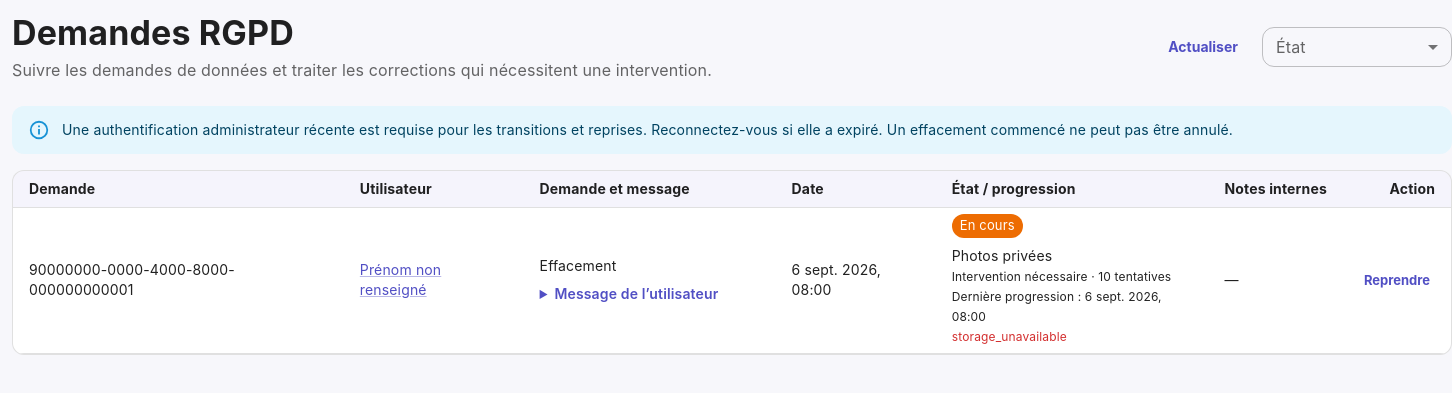
it: privacy request messages › keeps old requests without a user message readable
Click the heading "Message de l’utilisateur" at (636, 294), box [554,285,718,302]
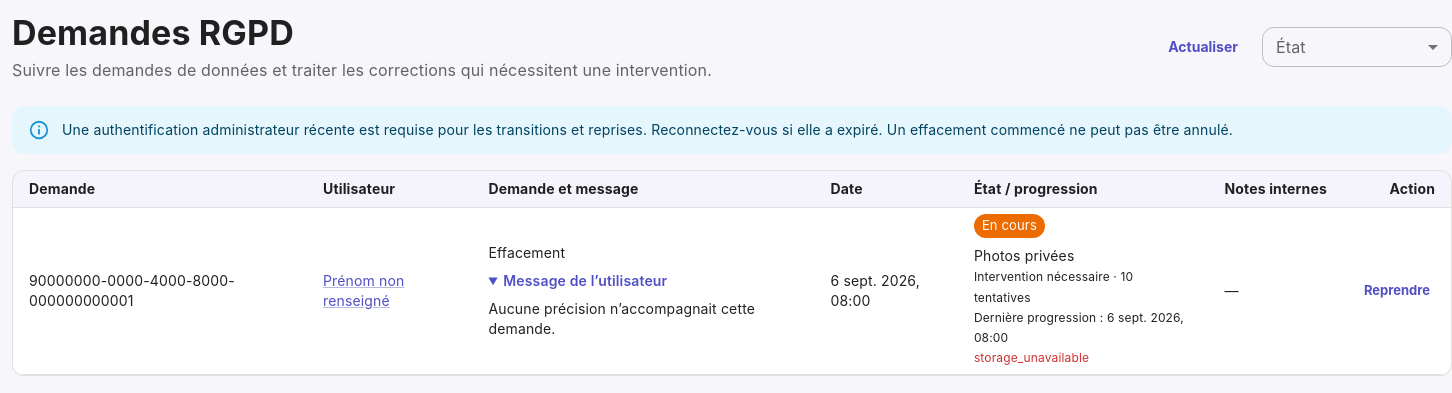
Check: the text "Aucune précision n’accompagnait cette demande." is shown, box [488,299,798,339]
